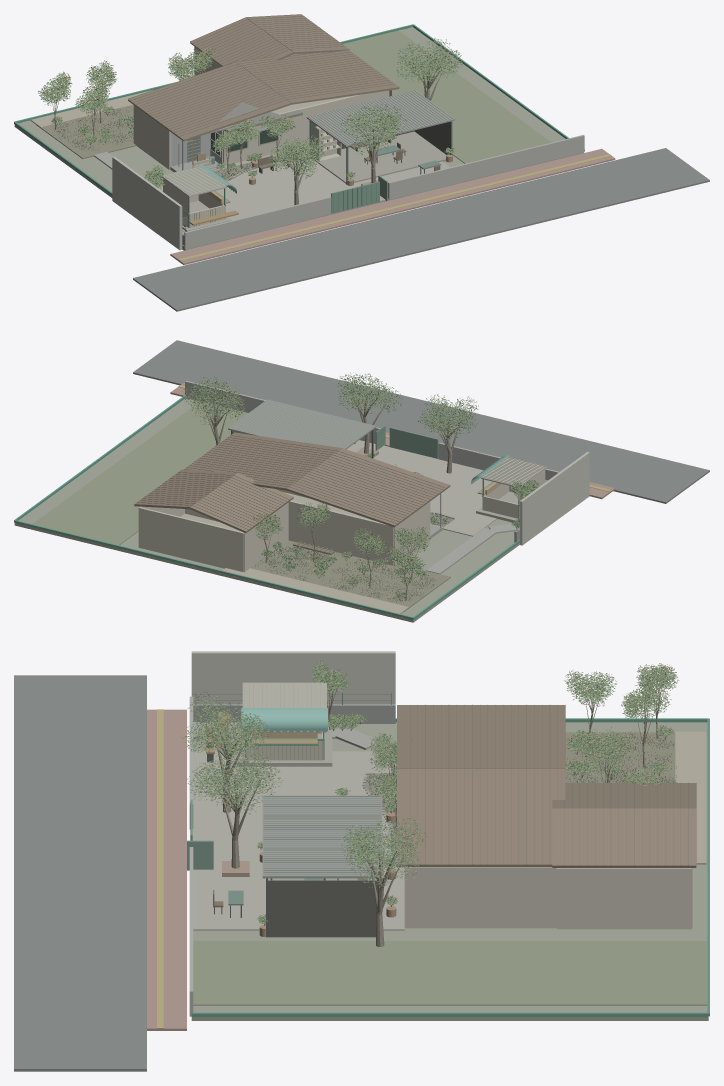
3 views of the same model, one above another, from view 1: azimuth 30°, elevation 25°; view 2: azimuth 150°, elevation 25°; view 3: azimuth 270°, elevation 25° (orthographic). The views are drawn at different scales.
Visible parts, largest first — view 1: road, expansion-ground, house-main-roof--1, brick-sidewalk, house-main-roof-1, owner-marked-property, worn-courtyard, closed-roof, front-wall-10, neighbor-white-wall, closed-area-floor, backyard-parking-area (+28 smaller); view 2: road, expansion-ground, owner-marked-property, house-main-roof--1, backyard-parking-area, house-main-roof-1, house-wing-back, worn-courtyard, closed-roof, house-main-back, neighbor-white-wall, house-wing-roof--1 (+28 smaller); view 3: road, expansion-ground, house-main-roof-1, owner-marked-property, worn-courtyard, brick-sidewalk, house-main-roof--1, house-main-right, closed-roof, house-wing-roof-1, neighbor-white-wall, house-wing-side-right (+33 smaller).
Boxes of the visible parts, <box> form: road: <box>133,148,709,311</box>; expansion-ground: <box>342,30,551,163</box>; house-main-roof--1: <box>128,62,291,141</box>; brick-sidewalk: <box>170,148,615,264</box>; house-main-roof-1: <box>236,49,399,104</box>; owner-marked-property: <box>14,27,583,250</box>; worn-courtyard: <box>157,150,449,220</box>; closed-roof: <box>306,90,455,146</box>; front-wall-10: <box>388,135,584,199</box>; neighbor-white-wall: <box>112,156,182,250</box>; closed-area-floor: <box>311,131,446,183</box>; backyard-parking-area: <box>36,105,136,158</box>; road: <box>133,340,709,503</box>; expansion-ground: <box>32,402,248,546</box>; owner-marked-property: <box>14,398,519,622</box>; house-main-roof--1: <box>286,448,450,527</box>; backyard-parking-area: <box>251,540,450,611</box>; house-main-roof-1: <box>184,432,341,490</box>; house-wing-back: <box>139,507,243,571</box>; worn-courtyard: <box>346,440,496,536</box>; closed-roof: <box>228,399,376,449</box>; house-main-back: <box>185,500,393,565</box>; neighbor-white-wall: <box>520,452,589,545</box>; house-wing-roof--1: <box>190,473,293,533</box>; road: <box>14,675,146,1071</box>; expansion-ground: <box>193,941,707,1005</box>; house-main-roof-1: <box>397,769,565,867</box>; owner-marked-property: <box>191,722,708,1020</box>; worn-courtyard: <box>192,751,404,930</box>; brick-sidewalk: <box>147,709,186,1030</box>; house-main-roof--1: <box>397,705,565,768</box>; house-main-right: <box>404,867,556,928</box>; closed-roof: <box>262,795,382,878</box>; house-wing-roof-1: <box>552,808,696,867</box>; neighbor-white-wall: <box>191,651,395,703</box>; house-wing-side-right: <box>556,868,691,929</box>.
Bounding box in the file's own units: 42 × 6.48 × 31.36.
